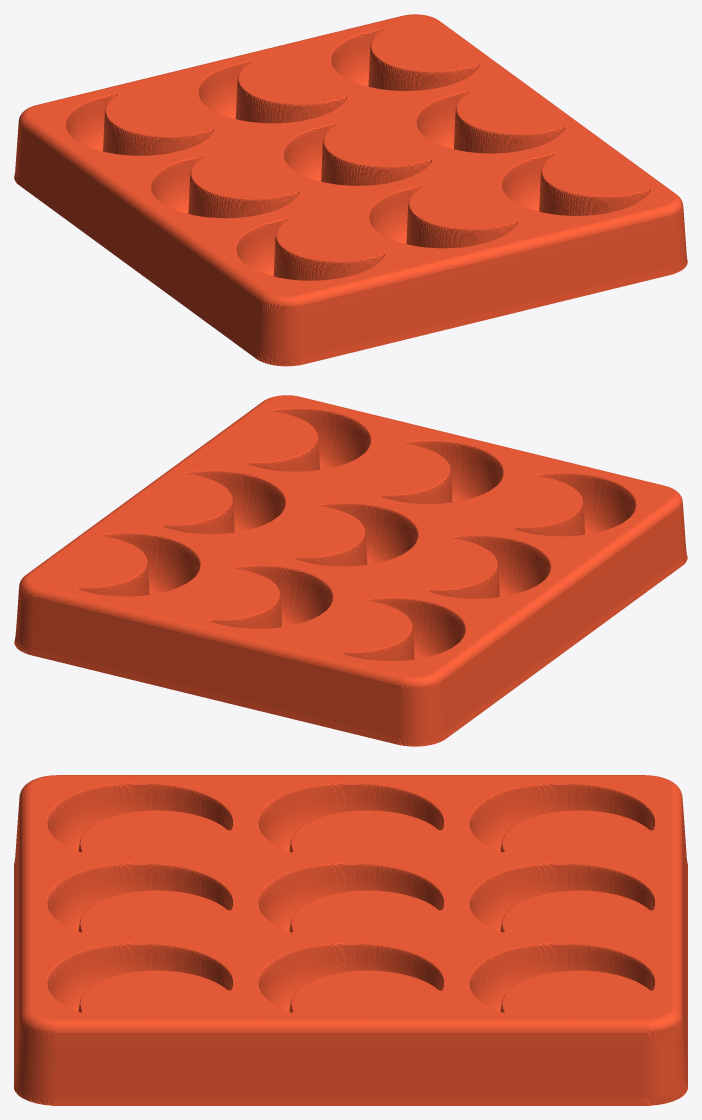
File: mold.glb
3 renders of one model, top to bottom at view 1: azimuth 30°, elevation 25°; view 2: azimuth 150°, elevation 25°; view 3: azimuth 270°, elevation 25°, orthographic. The views are drawn at different scales.
Parts seen in each view (by area): view 1: geometry_0; view 2: geometry_0; view 3: geometry_0.
Boxes of the visible parts, left/top/right/bottom form: geometry_0: left=14, top=14, right=687, bottom=366; geometry_0: left=14, top=395, right=687, bottom=746; geometry_0: left=14, top=775, right=687, bottom=1105.
Size of the model in its own units: 0.1267 by 0.0182 by 0.1402.
